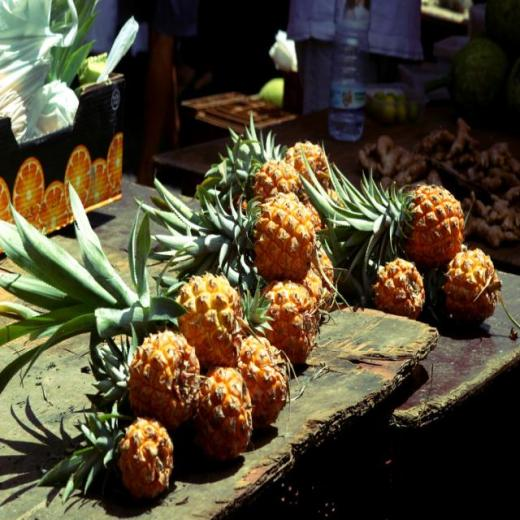Mango: (0, 108, 520, 498)
